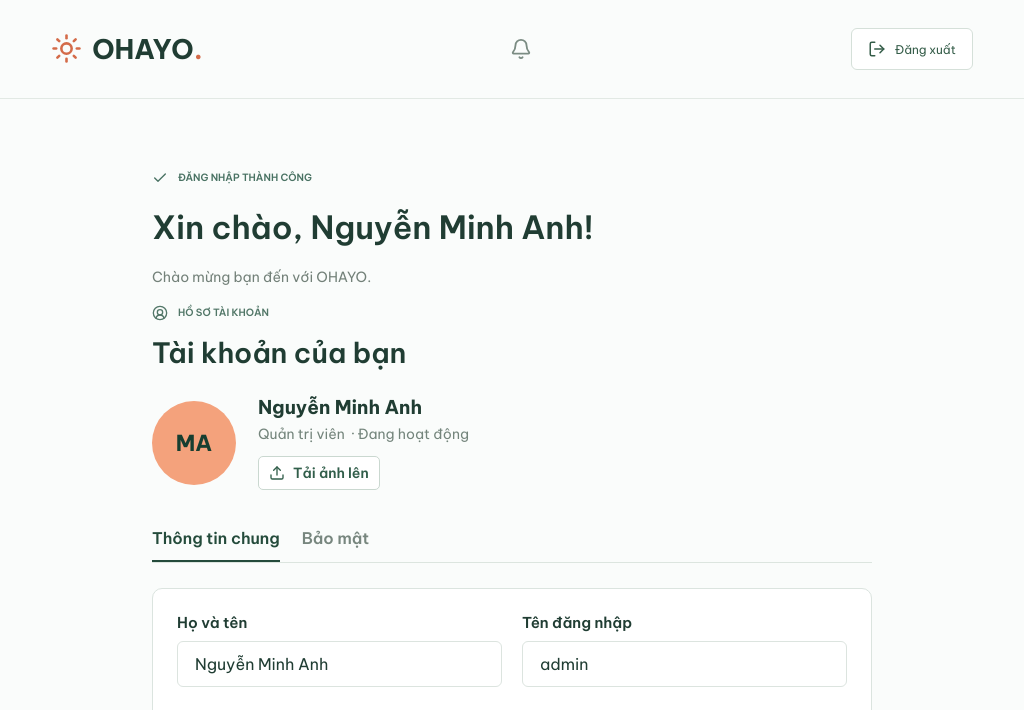
Test case: authentication lifecycle › updates the authenticated account after saving profile changes
Replace the text in the field labelled "Họ và tên" with "Tên mới": (340, 664) [193, 642, 486, 686]
(page scrolled)
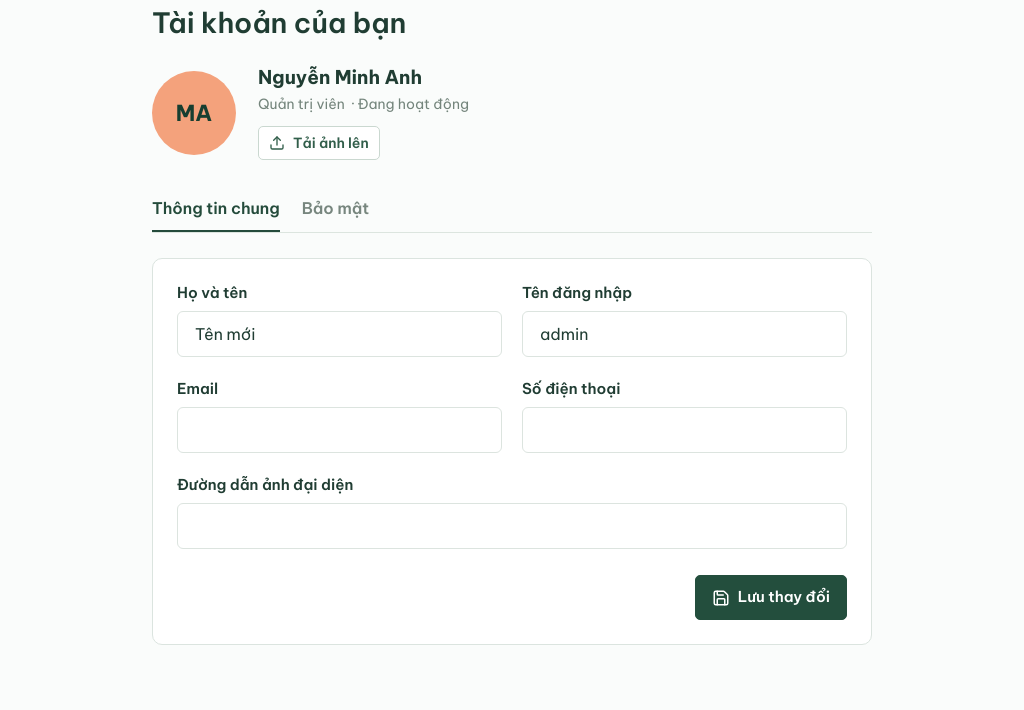
Click the button "Lưu thay đổi": click(771, 598) [695, 575, 847, 620]
(page scrolled)
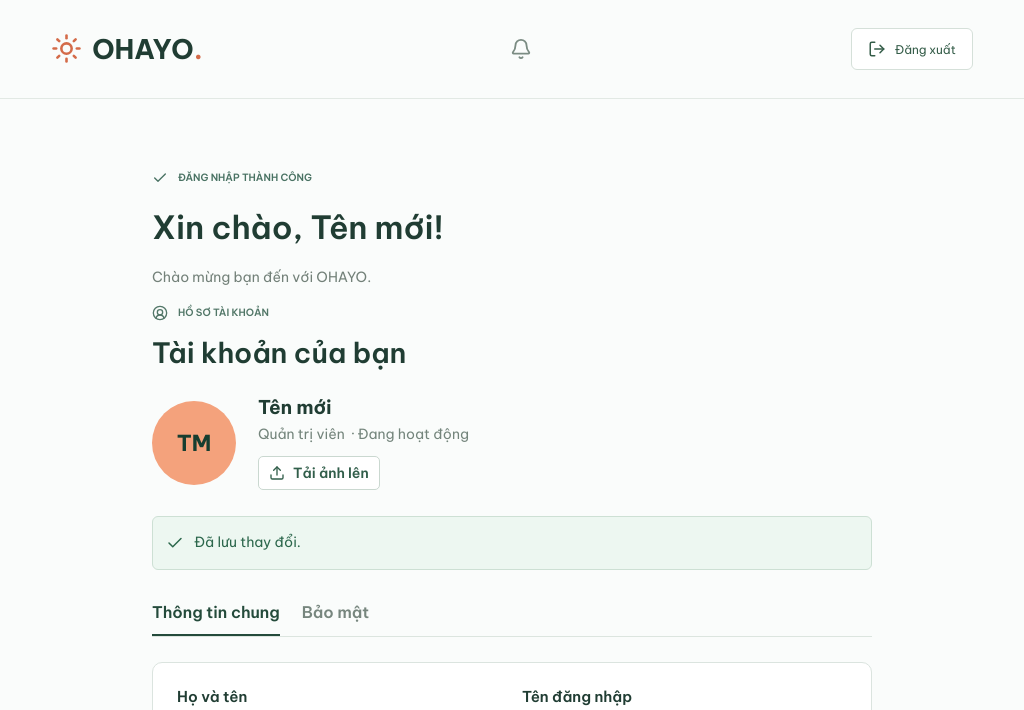
Check: the heading "Xin chào, Tên mới!" is shown, box [152, 207, 444, 247]
